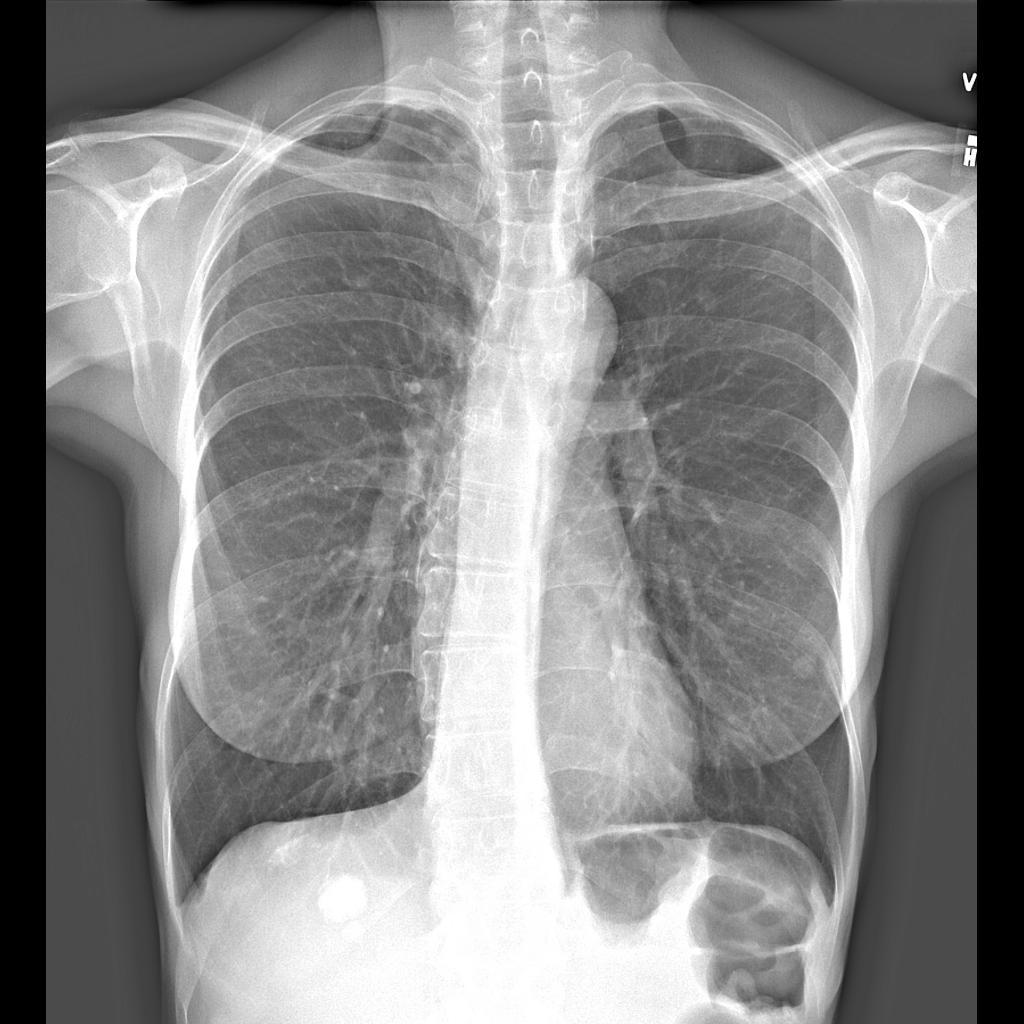Nodule: (789, 651, 825, 685)
